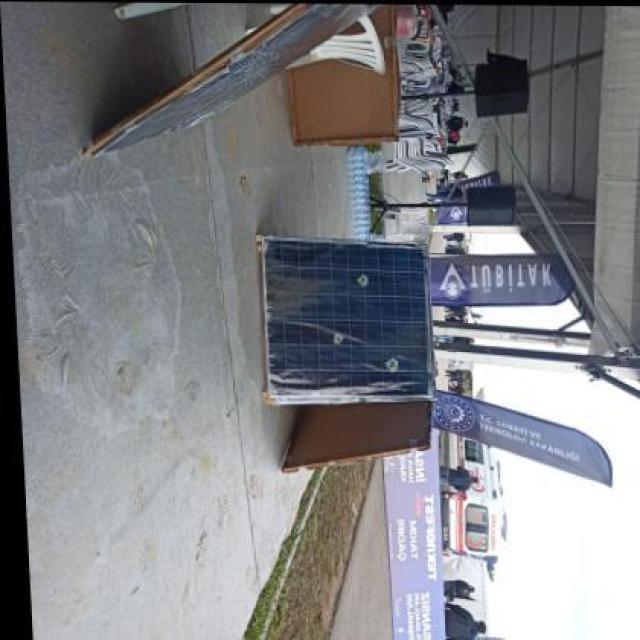soiled: (259, 235, 431, 402)
